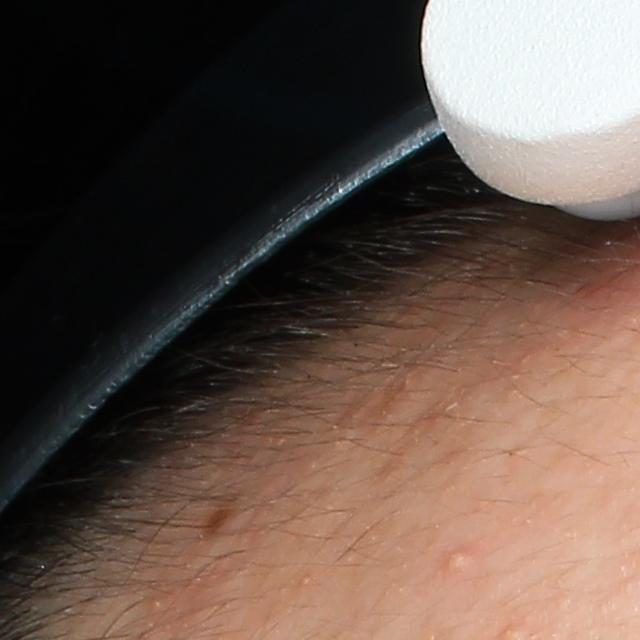pustule: (444, 547, 475, 575)
